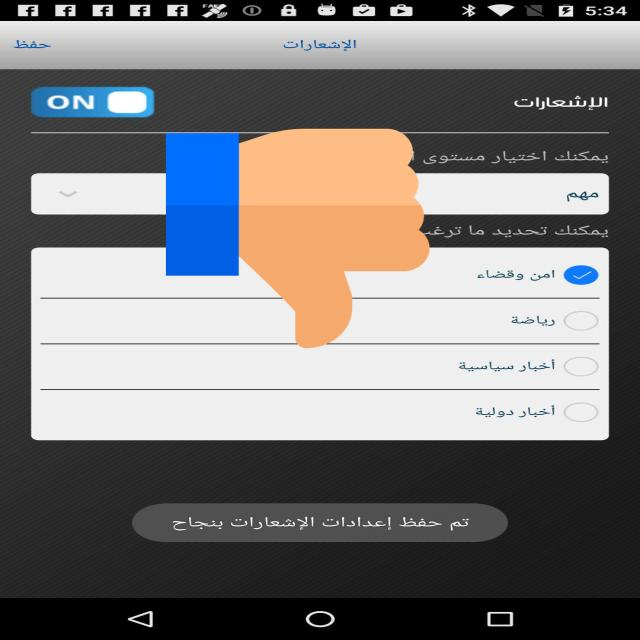obstruction: (166, 123, 430, 354)
